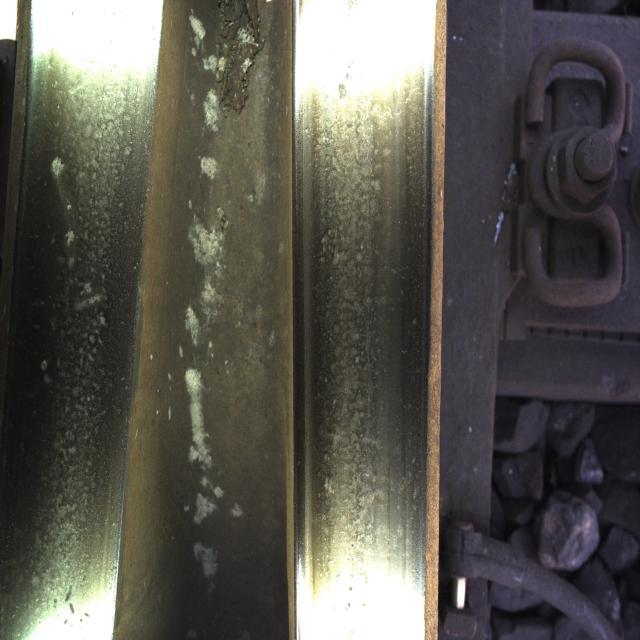crack: (300, 31, 414, 562), (22, 30, 122, 565)
